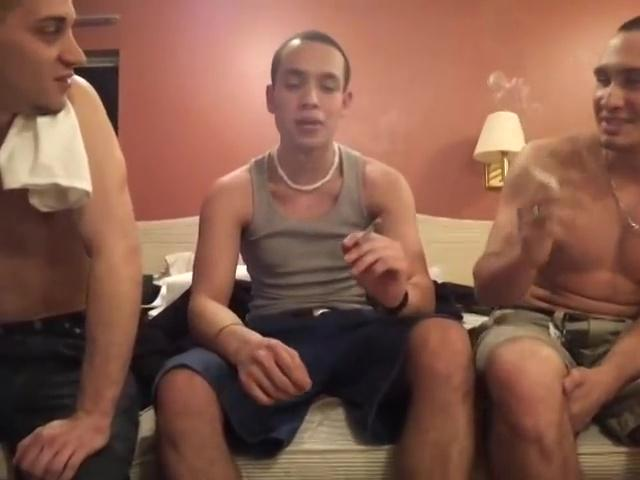cigarette: (355, 217, 383, 249)
